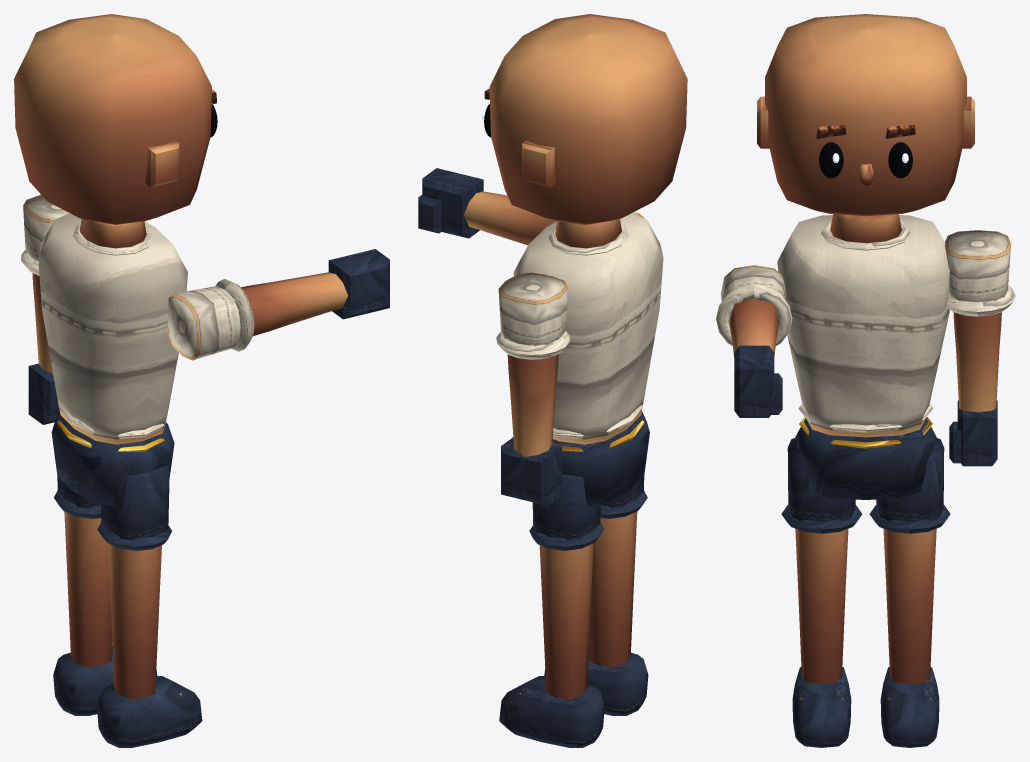
The model's file is body.glb.
3 renders of one model, left to right at view 1: azimuth 30°, elevation 25°; view 2: azimuth 150°, elevation 25°; view 3: azimuth 270°, elevation 25°, orthographic.
Visible parts, largest first — view 1: head, chest, leg_R, arm_R, leg_L, hips, foot_R, hand_R, arm_L, foot_L, hand_L; view 2: head, chest, leg_L, arm_L, leg_R, foot_L, hips, hand_R, hand_L, arm_R, foot_R; view 3: head, chest, leg_R, leg_L, arm_L, hips, arm_R, foot_L, foot_R, hand_R, hand_L.
Boxes of the visible parts, left/top/right/bottom form: head: left=14, top=14, right=217, bottom=224; chest: left=38, top=213, right=187, bottom=444; leg_R: left=97, top=464, right=171, bottom=699; arm_R: left=167, top=272, right=347, bottom=360; leg_L: left=54, top=476, right=112, bottom=667; hips: left=51, top=411, right=174, bottom=505; foot_R: left=97, top=676, right=202, bottom=747; hand_R: left=328, top=249, right=389, bottom=319; arm_L: left=21, top=194, right=69, bottom=373; foot_L: left=53, top=644, right=157, bottom=715; hand_L: left=28, top=363, right=59, bottom=424; head: left=481, top=14, right=687, bottom=224; chest: left=513, top=213, right=663, bottom=444; leg_L: left=529, top=474, right=603, bottom=699; arm_L: left=496, top=272, right=570, bottom=456; leg_R: left=589, top=476, right=647, bottom=667; foot_L: left=499, top=676, right=604, bottom=747; hips: left=552, top=411, right=649, bottom=505; hand_R: left=418, top=168, right=483, bottom=238; hand_L: left=501, top=437, right=562, bottom=505; arm_R: left=464, top=191, right=644, bottom=245; foot_R: left=544, top=644, right=648, bottom=715; head: left=757, top=14, right=974, bottom=216; chest: left=777, top=214, right=949, bottom=437; leg_R: left=781, top=437, right=862, bottom=683; leg_L: left=869, top=437, right=950, bottom=683; arm_L: left=945, top=230, right=1015, bottom=412; hips: left=795, top=417, right=936, bottom=499; arm_R: left=716, top=265, right=792, bottom=357; foot_L: left=880, top=667, right=939, bottom=747; foot_R: left=792, top=667, right=851, bottom=747; hand_R: left=734, top=345, right=782, bottom=417; hand_L: left=949, top=400, right=997, bottom=466.
Bounding box in the file's own units: 0.5823 × 1.3 × 0.51.
Materials: 9 (9 with a texture image).
